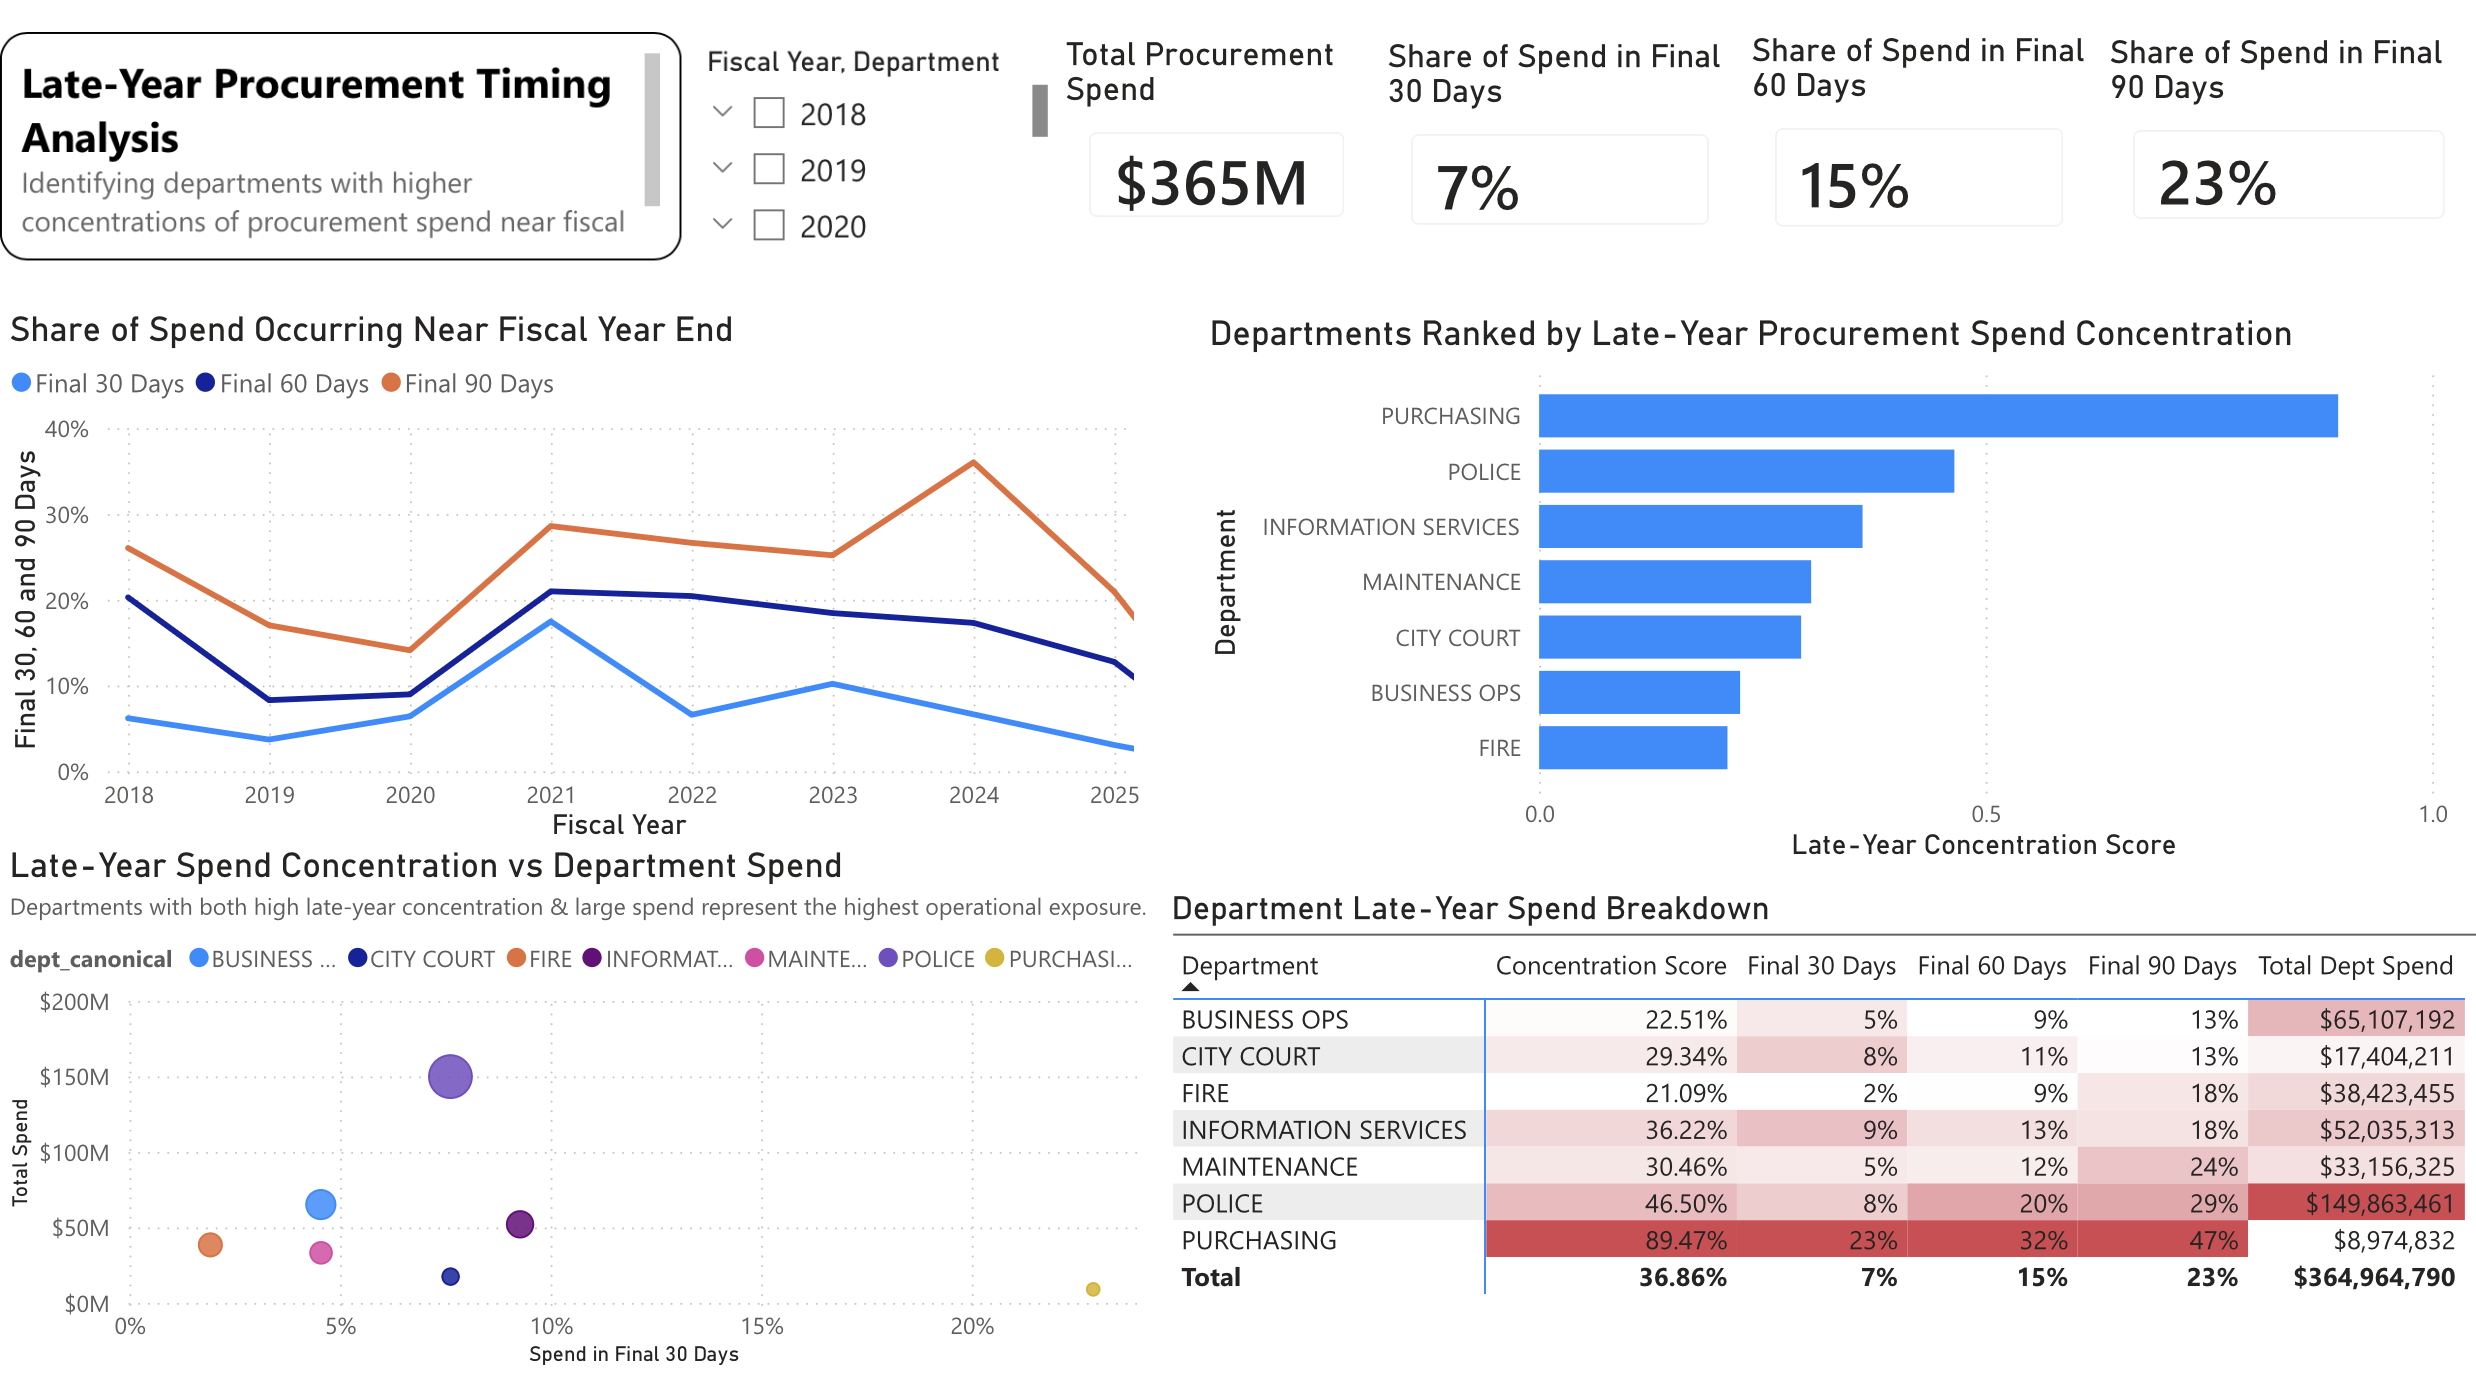

The dashboard page shown, as its layout file describes it:
{"tool":"powerbi","page":{"name":"Late-Year Procurement Timing Analysis","canvas":[1280,720],"ordinal":0},"visuals":[{"type":"cardVisual","title":"Total Procurement Spend","fields":{"Data":["mart po_timing_dept_fy_mart.Total PO Spend"]},"box":[545.8,30.1,166.2,109.2],"z":0},{"type":"cardVisual","title":"Share of Spend in Final 30 Days","fields":{"Data":["mart po_timing_dept_fy_mart.Late-Year % (30d)"]},"box":[712,31.3,188.3,112.2],"z":1000},{"type":"cardVisual","title":"Share of Spend in Final 60 Days","fields":{"Data":["mart po_timing_dept_fy_mart.Late-Year % (60d)"]},"box":[900.3,27.6,184,115.9],"z":2000},{"type":"cardVisual","title":"Share of Spend in Final 90 Days","fields":{"Data":["mart po_timing_dept_fy_mart.Late-Year % (90d)"]},"box":[1084.3,28.8,195.6,111.6],"z":3000},{"type":"lineChart","title":"Share of Spend Occurring Near Fiscal Year End","fields":{"Y":["mart po_timing_dept_fy_mart.Late-Year % (30d)","mart po_timing_dept_fy_mart.Late-Year % (60d)","mart po_timing_dept_fy_mart.Late-Year % (90d)"],"Category":["mart po_timing_dept_fy_mart.fiscal_year"]},"box":[0,170.5,593.7,277.2],"z":4000},{"type":"slicer","fields":{"Values":["mart po_timing_dept_fy_mart.fiscal_year","mart po_timing_dept_fy_mart.dept_canonical"]},"box":[352,30.1,193.8,113.5],"z":5000},{"type":"barChart","title":"Departments Ranked by Late-Year Procurement  Spend Concentration","fields":{"Category":["dim_department.department"],"Y":["mart po_timing_dept_fy_mart.Compression Index"]},"box":[619.4,172.9,649.5,285.8],"z":6000},{"type":"pivotTable","title":"Department Late-Year Spend Breakdown","fields":{"Rows":["dim_department.department"],"Values":["mart po_timing_dept_fy_mart.Compression Index","mart po_timing_dept_fy_mart.Late-Year % (30d)","mart po_timing_dept_fy_mart.Late-Year % (60d)","mart po_timing_dept_fy_mart.Late-Year % (90d)","mart po_timing_dept_fy_mart.Total PO Spend"]},"box":[599.8,471,680.1,240.4],"z":7000},{"type":"scatterChart","title":"Late-Year Spend Concentration vs Department Spend","fields":{"X":["mart po_timing_dept_fy_mart.Late-Year % (30d)"],"Y":["mart po_timing_dept_fy_mart.Total PO Spend"],"Size":["mart po_timing_dept_fy_mart.Total PO Spend"],"Series":["mart po_timing_dept_fy_mart.dept_canonical"]},"box":[0,447.7,605.9,272.3],"z":8000},{"type":"textbox","box":[0,25.8,352,117.8],"z":9000}]}

Visuals, with their boxes in screenshot pixels (x1, y1, x2, y2), scaled from the page's 1280x720 canvas onto the 2476x1382 screenshot:
"Total Procurement Spend" cardVisual: bbox(1056, 58, 1377, 267)
"Share of Spend in Final 30 Days" cardVisual: bbox(1377, 60, 1742, 275)
"Share of Spend in Final 60 Days" cardVisual: bbox(1742, 53, 2097, 275)
"Share of Spend in Final 90 Days" cardVisual: bbox(2097, 55, 2475, 269)
"Share of Spend Occurring Near Fiscal Year End" lineChart: bbox(0, 327, 1148, 859)
slicer - mart po_timing_dept_fy_mart.fiscal_year x mart po_timing_dept_fy_mart.dept_canonical: bbox(681, 58, 1056, 276)
"Departments Ranked by Late-Year Procurement  Spend Concentration" barChart: bbox(1198, 332, 2455, 880)
"Department Late-Year Spend Breakdown" pivotTable: bbox(1160, 904, 2475, 1365)
"Late-Year Spend Concentration vs Department Spend" scatterChart: bbox(0, 859, 1172, 1381)
textbox: bbox(0, 50, 681, 276)
